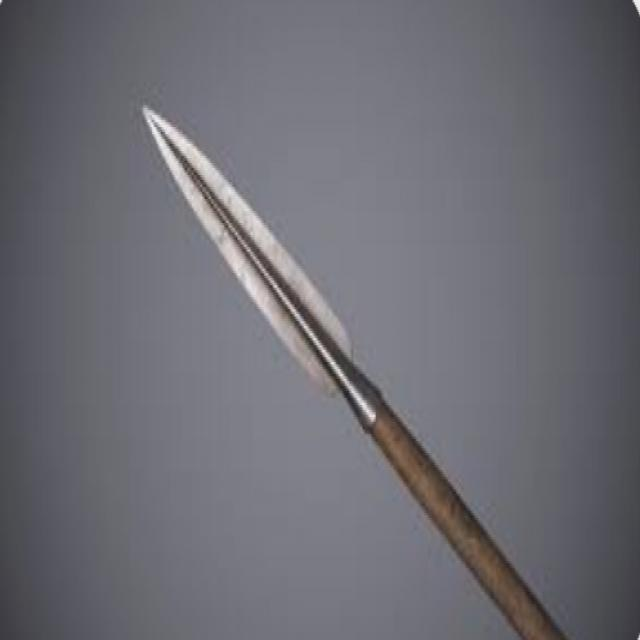spear: (135, 94, 572, 636)
